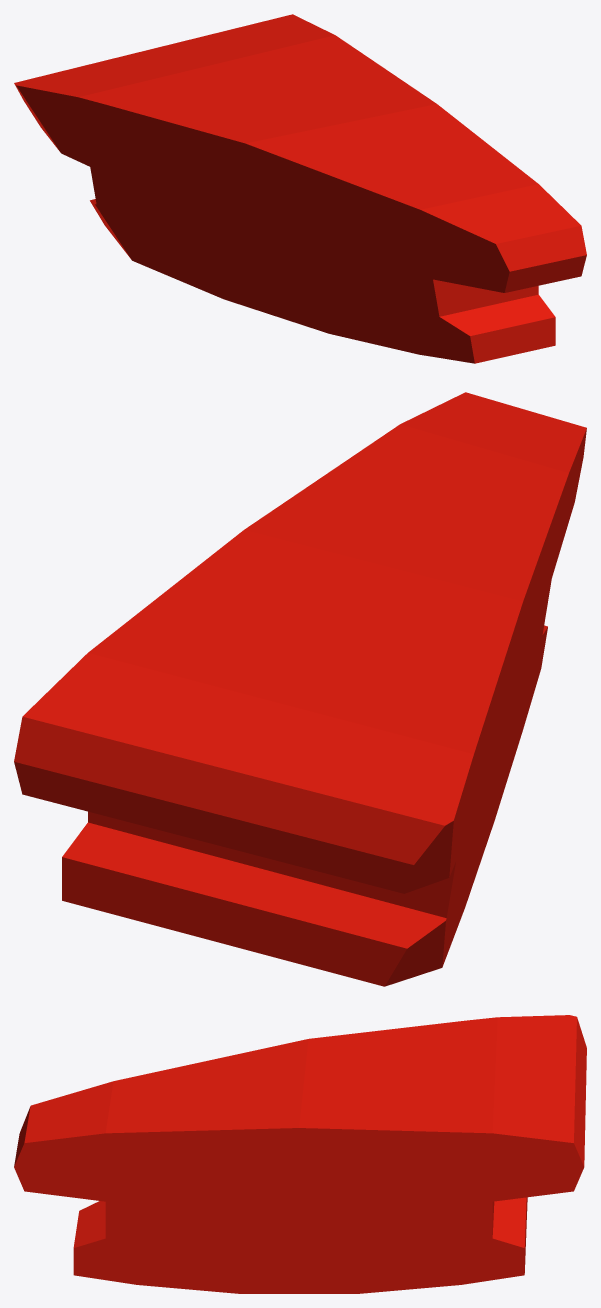
The model's file is SM_Fence1m_Half-Broken_01.023.fbx.
3 renders of one model, top to bottom at view 1: azimuth 30°, elevation 25°; view 2: azimuth 150°, elevation 25°; view 3: azimuth 270°, elevation 25°, orthographic. The views are drawn at different scales.
Visible parts, largest first — view 1: SM_Fence1m_Half-Broken_01.023; view 2: SM_Fence1m_Half-Broken_01.023; view 3: SM_Fence1m_Half-Broken_01.023.
Boxes of the visible parts, x1,y1,x2,y2 form: SM_Fence1m_Half-Broken_01.023: [14, 14, 586, 363]; SM_Fence1m_Half-Broken_01.023: [14, 392, 586, 986]; SM_Fence1m_Half-Broken_01.023: [14, 1015, 586, 1293].
Bounding box in the file's own units: 0.228 × 0.1403 × 0.4265.
